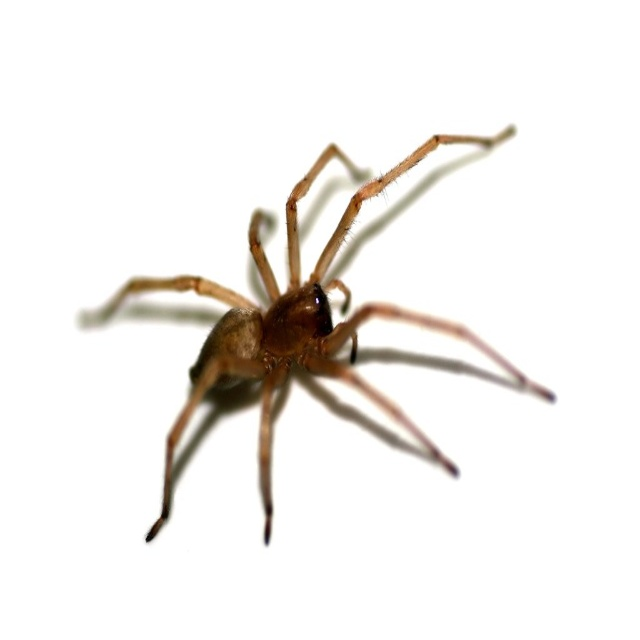Spider: (74, 123, 557, 547)
